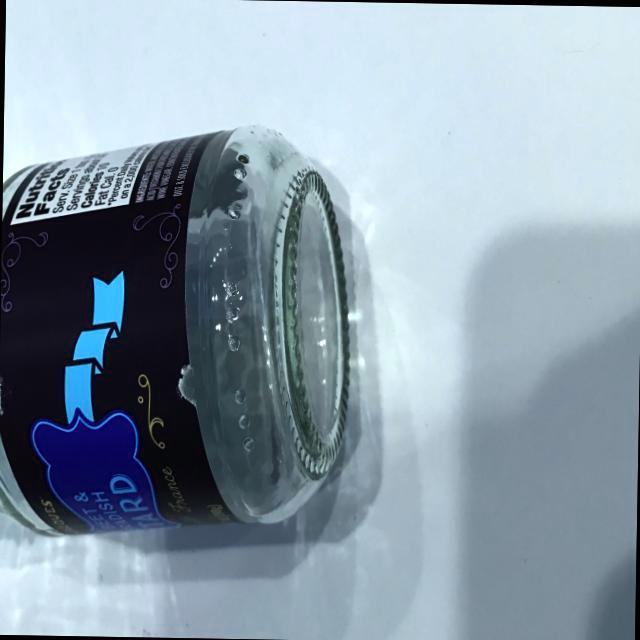glass: (0, 93, 382, 564)
